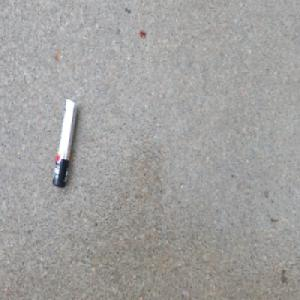Battery: (51, 96, 77, 190)
